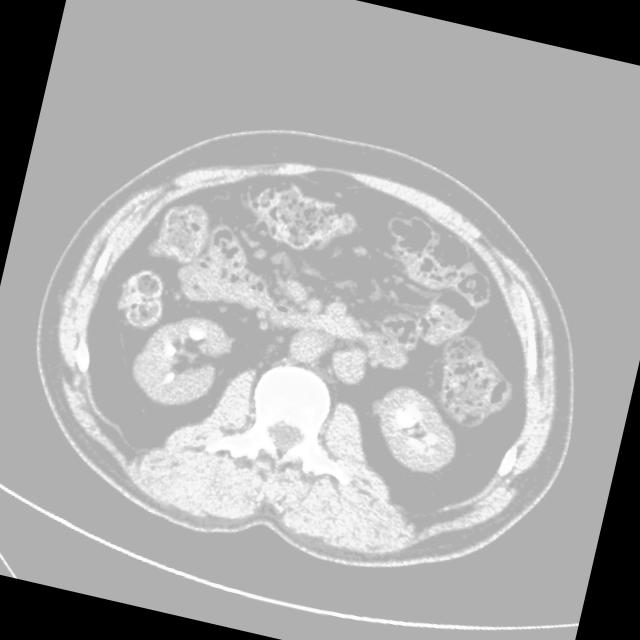STONE: (87, 226, 548, 538)
